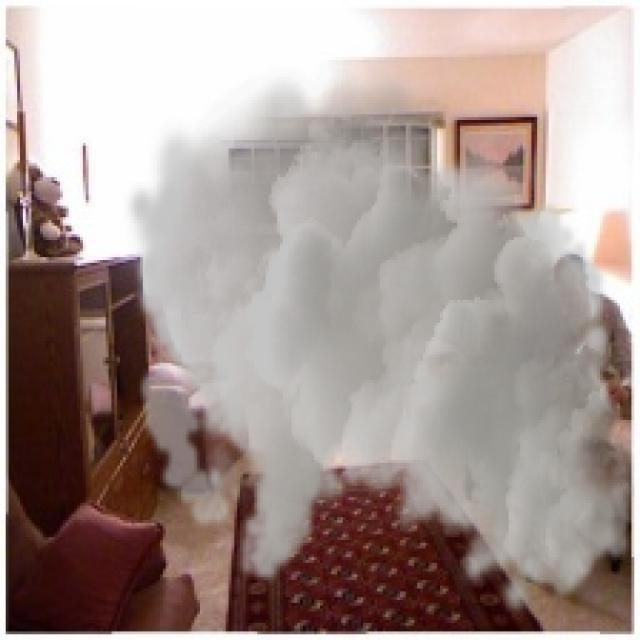Smoke: (122, 54, 638, 620)
